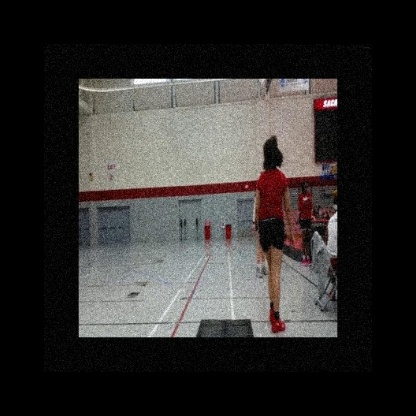lateral_flexion_left: (254, 133, 296, 337)
stance_width_narrow: (254, 166, 286, 337)
